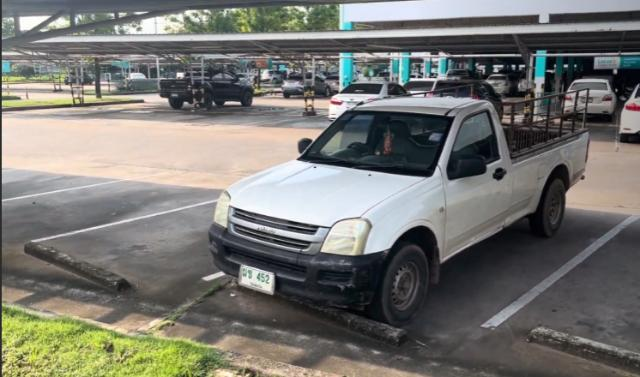pickup-truck: (205, 95, 592, 329)
